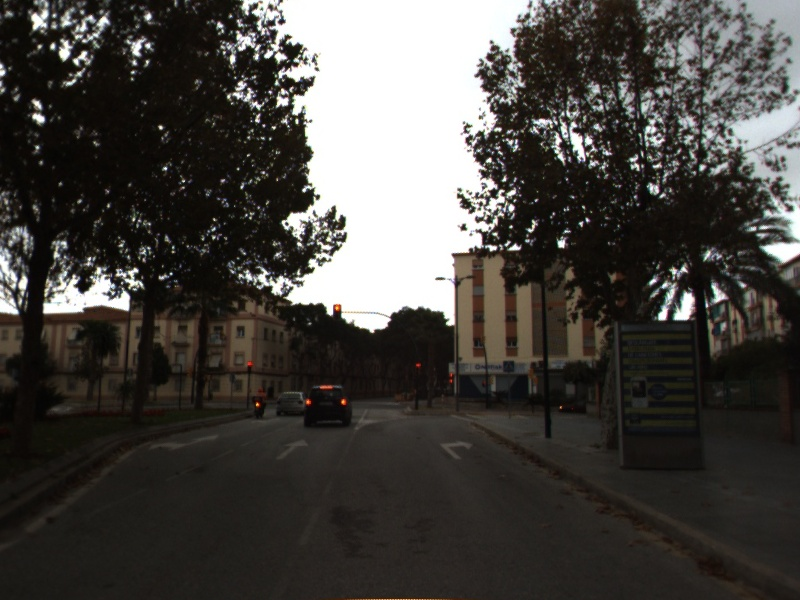RIGHT: (436, 438, 476, 462)
STRAIGHT: (272, 437, 312, 462)
STRAIGHT_LEFT: (147, 432, 222, 453)
